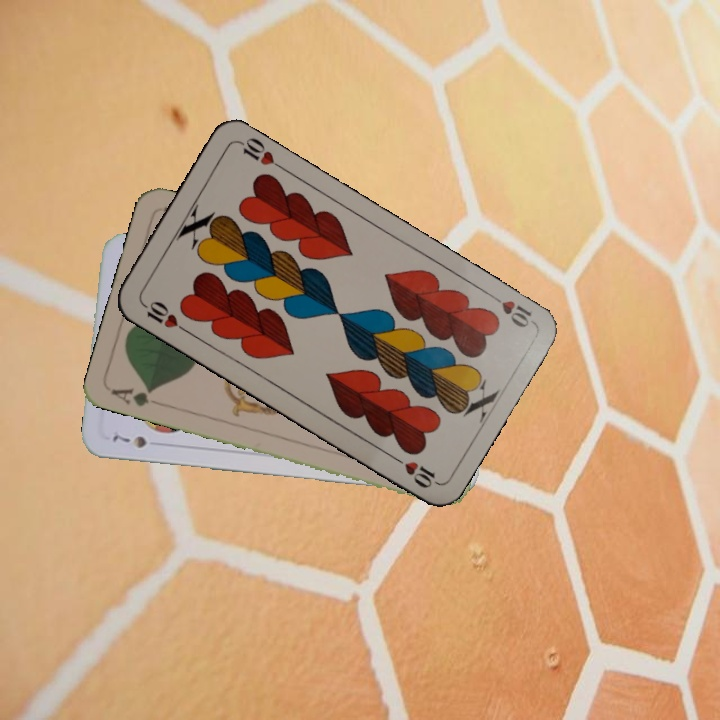GA: (107, 384, 158, 410)
H10: (484, 288, 536, 331), (137, 296, 190, 335)
S7: (108, 430, 149, 451)
